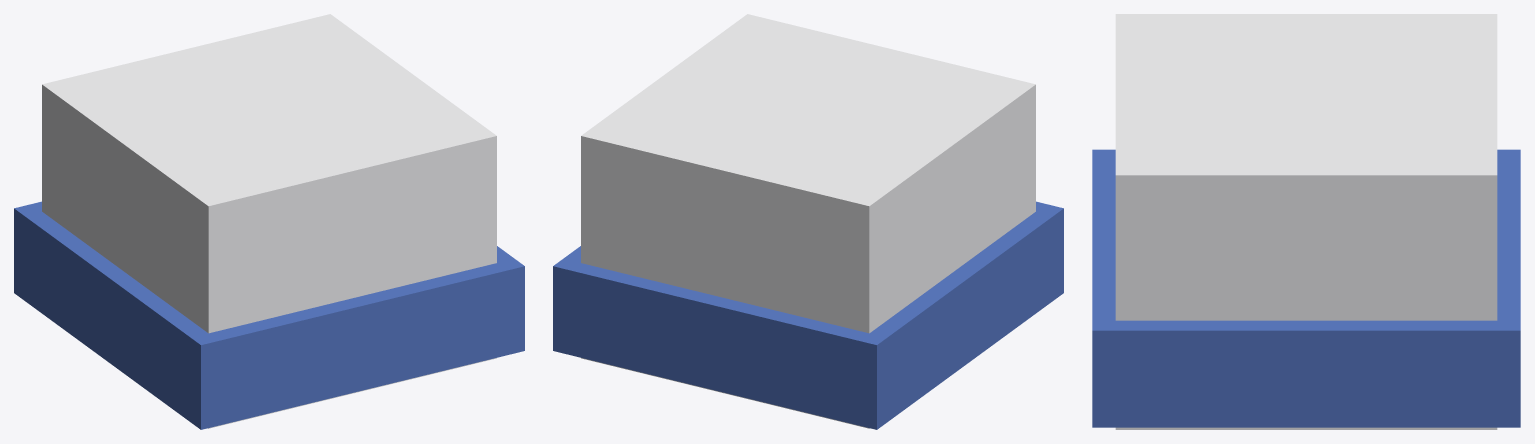
Rendered from marinha_branco_manga_inf.glb.
The picture shows the model from 3 angles, left to right: view 1: azimuth 30°, elevation 25°; view 2: azimuth 150°, elevation 25°; view 3: azimuth 270°, elevation 25°; orthographic projection. The views are drawn at different scales.
Parts seen in each view (by area): view 1: marinha_branco_manga_inf; view 2: marinha_branco_manga_inf; view 3: marinha_branco_manga_inf.
Part boxes in pixels (box(x1,y1,x2,y2)): marinha_branco_manga_inf: box(14, 14, 524, 429); marinha_branco_manga_inf: box(553, 14, 1063, 429); marinha_branco_manga_inf: box(1092, 14, 1520, 429).
Bounding box in the file's own units: 0.32 × 0.21 × 0.32.
